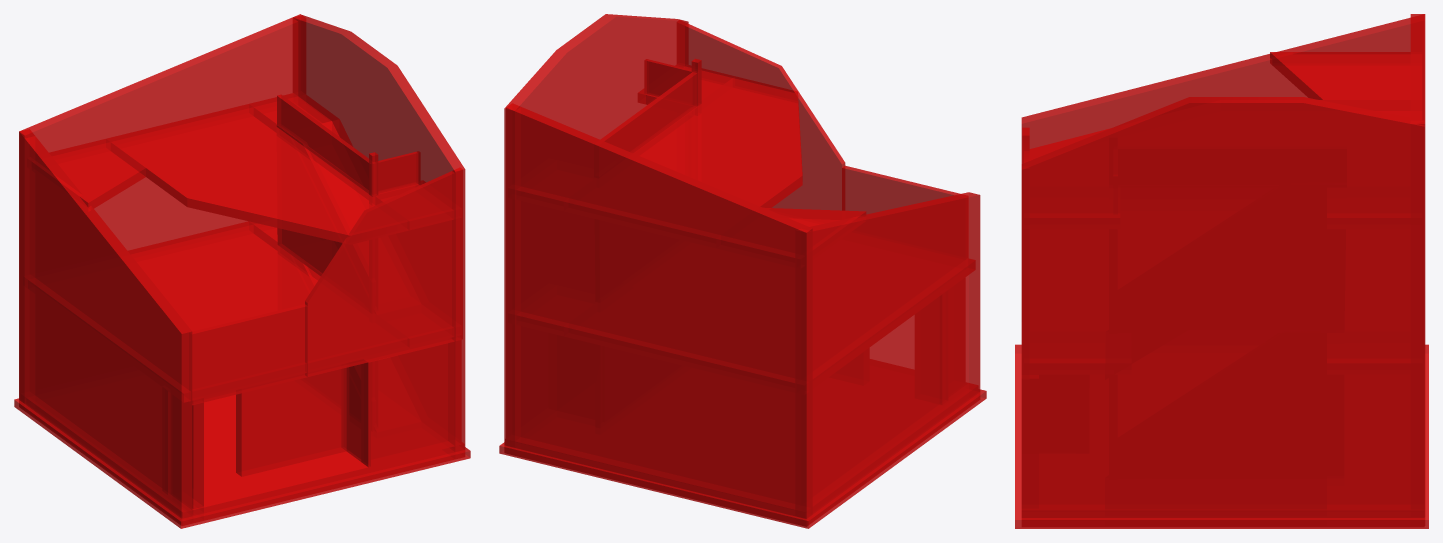
Rendered from SM_Bld_City_Destroyed_03_Collision.fbx.
3 views of the same model, side by side, from view 1: azimuth 30°, elevation 25°; view 2: azimuth 150°, elevation 25°; view 3: azimuth 270°, elevation 25° (orthographic). The views are drawn at different scales.
Parts seen in each view (by area): view 1: SM_Bld_City_Destroyed_03_Collision; view 2: SM_Bld_City_Destroyed_03_Collision; view 3: SM_Bld_City_Destroyed_03_Collision.
Boxes of the visible parts, x1,y1,x2,y2 form: SM_Bld_City_Destroyed_03_Collision: (14, 14, 470, 528); SM_Bld_City_Destroyed_03_Collision: (499, 14, 986, 528); SM_Bld_City_Destroyed_03_Collision: (1015, 14, 1428, 528).
Size of the model in its own units: 776 by 876 by 775.
